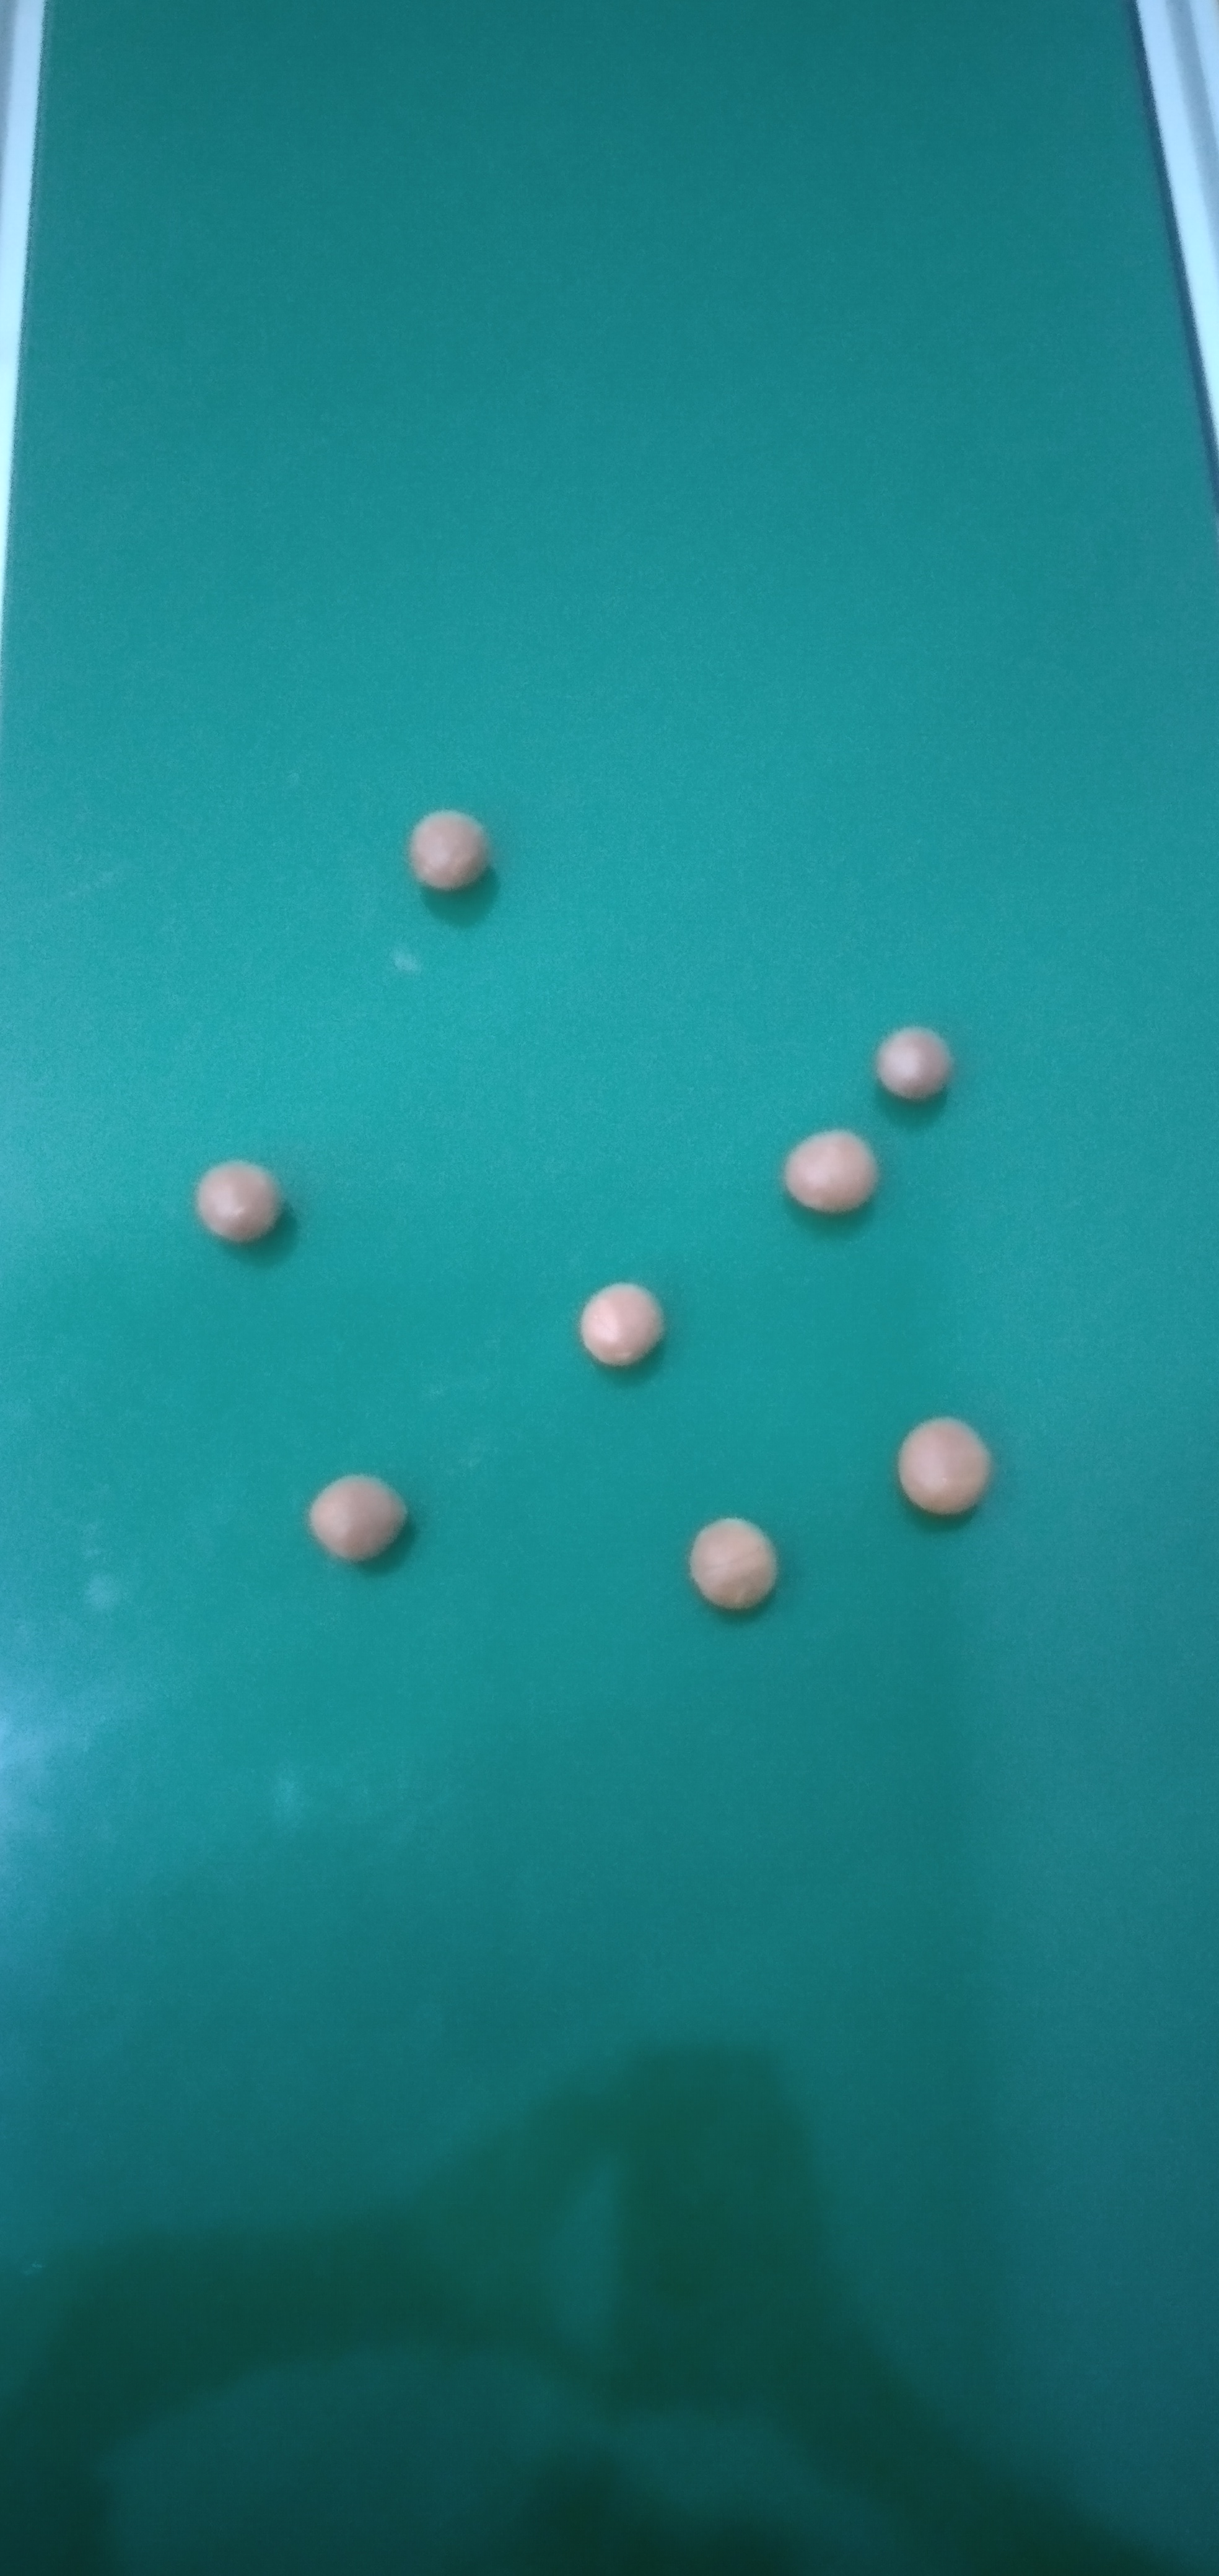mac: (312, 1475, 411, 1564), (899, 1416, 987, 1513), (687, 1513, 775, 1608), (784, 1124, 877, 1212), (578, 1283, 665, 1367), (192, 1158, 281, 1239), (409, 812, 486, 890), (872, 1027, 953, 1102)
